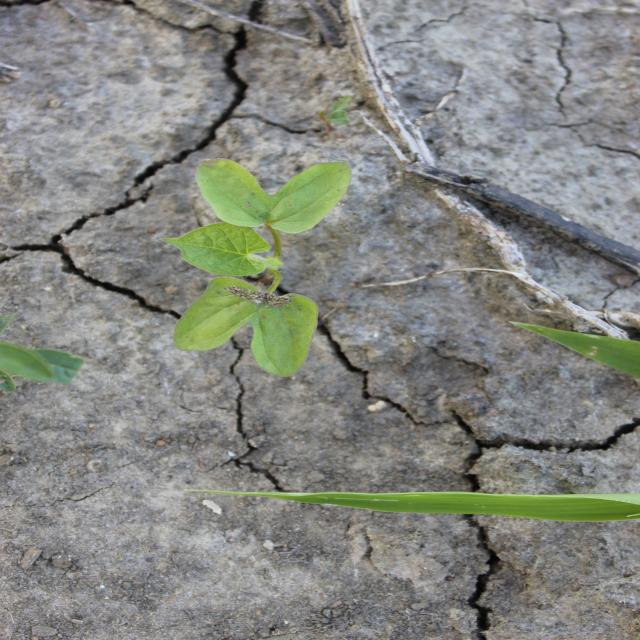MorningGlory: (158, 157, 354, 379)
